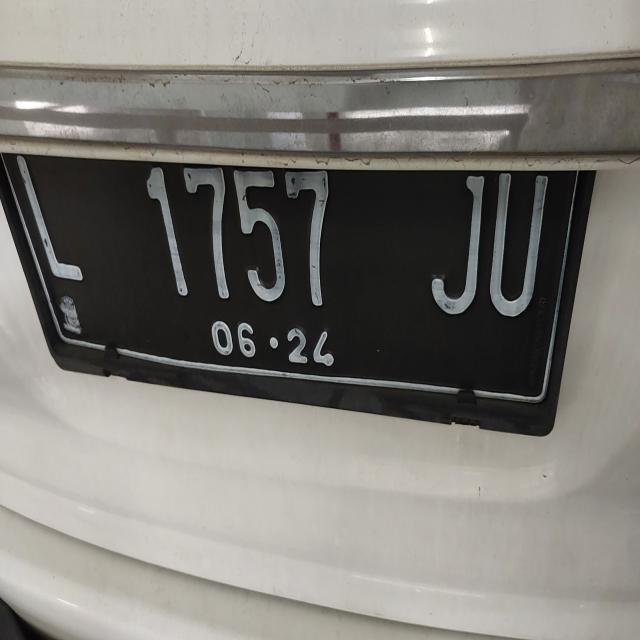1: (132, 150, 200, 326)
5: (227, 134, 290, 316)
7: (278, 147, 342, 317), (179, 149, 234, 308)
J: (418, 153, 487, 329)
L: (9, 142, 97, 295)
U: (488, 160, 550, 336)
